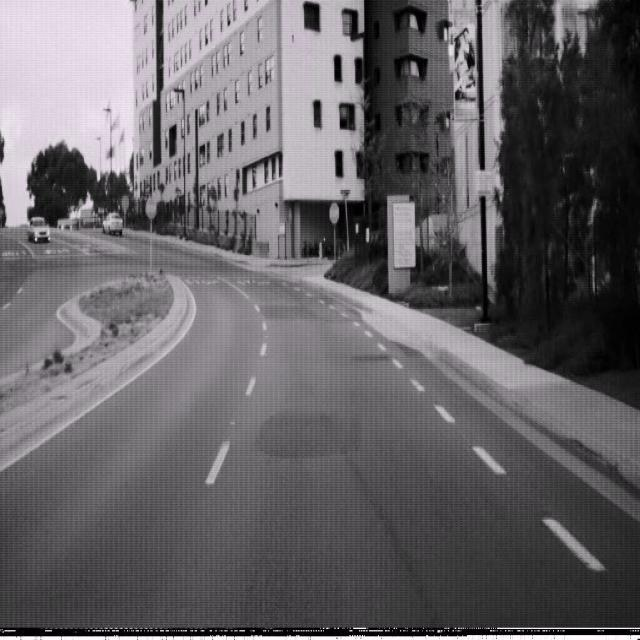stop_sign: (145, 196, 157, 221), (329, 201, 339, 224)
